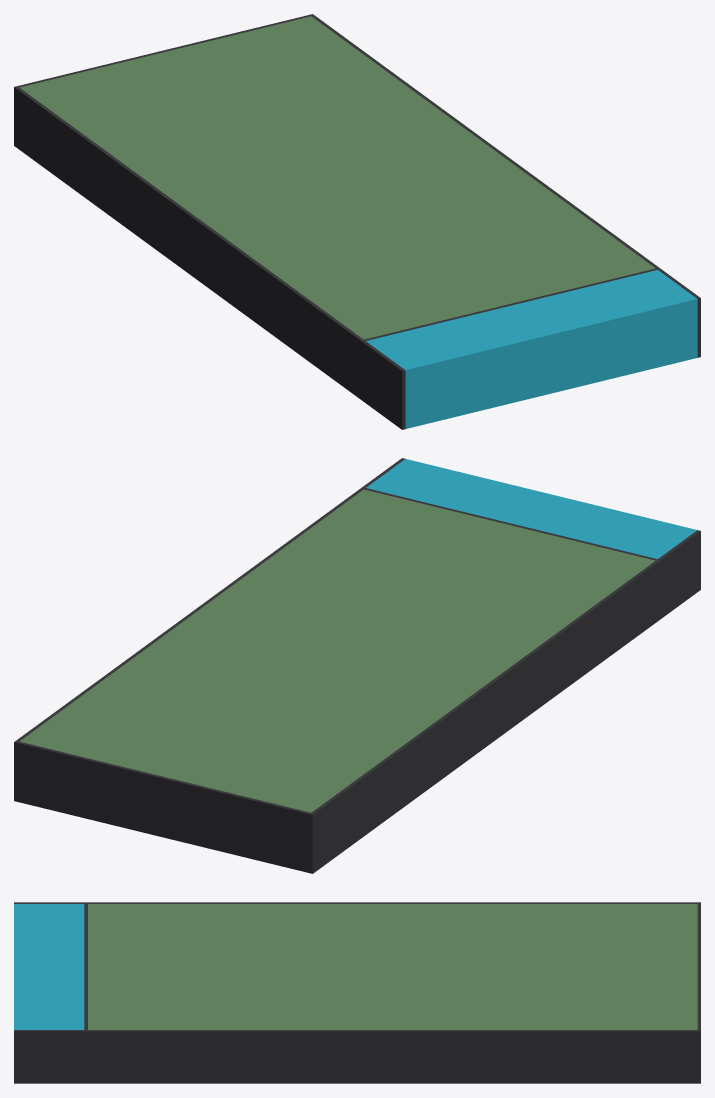
Rendered from lightblue_sector.glb.
3 renders of one model, top to bottom at view 1: azimuth 30°, elevation 25°; view 2: azimuth 150°, elevation 25°; view 3: azimuth 270°, elevation 25°, orthographic. The views are drawn at different scales.
Visible parts, largest first — view 1: lightblue_sector; view 2: lightblue_sector; view 3: lightblue_sector.
Boxes of the visible parts, x1,y1,x2,y2 form: lightblue_sector: (14,14,700,429); lightblue_sector: (14,458,700,873); lightblue_sector: (14,902,700,1083).
Bounding box in the file's own units: 8 × 1.51 × 18.
Materials: 1 (1 with a texture image).
